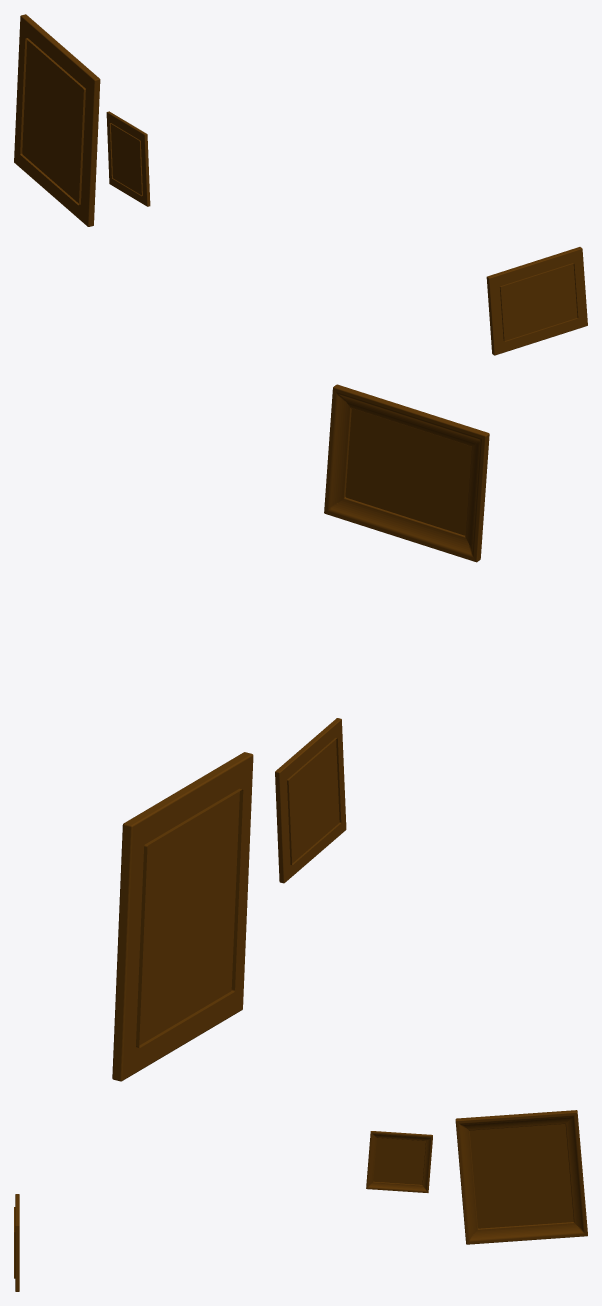
File: Painting.fbx
The picture shows the model from 3 angles, top to bottom: view 1: azimuth 30°, elevation 25°; view 2: azimuth 150°, elevation 25°; view 3: azimuth 270°, elevation 25°; orthographic projection. The views are drawn at different scales.
Visible parts, largest first — view 1: frame, frame.002, frame.001; view 2: frame, frame.002, frame.001; view 3: frame, frame.001, frame.002.
Boxes of the visible parts, left/top/right/bottom form: frame: left=14, top=14, right=100, bottom=226; frame.002: left=486, top=247, right=587, bottom=355; frame.001: left=106, top=111, right=150, bottom=206; frame: left=112, top=752, right=253, bottom=1081; frame.002: left=324, top=384, right=489, bottom=562; frame.001: left=275, top=718, right=346, bottom=883; frame: left=455, top=1110, right=587, bottom=1244; frame.001: left=366, top=1131, right=432, bottom=1192; frame.002: left=14, top=1194, right=19, bottom=1291.
Bounding box in the file's own units: 744 × 509 × 1993.
